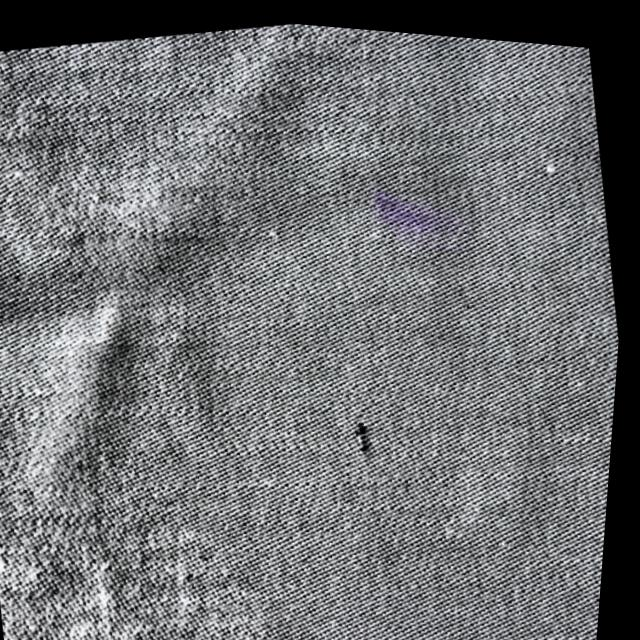Hole: (342, 395, 396, 476)
